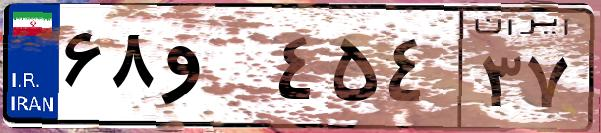3: (475, 38, 525, 113)
4: (270, 28, 330, 110), (385, 28, 445, 110)
5: (330, 28, 385, 110)
6: (57, 26, 110, 100)
7: (525, 38, 570, 115)
8: (110, 28, 158, 98)
و: (158, 20, 270, 120)
